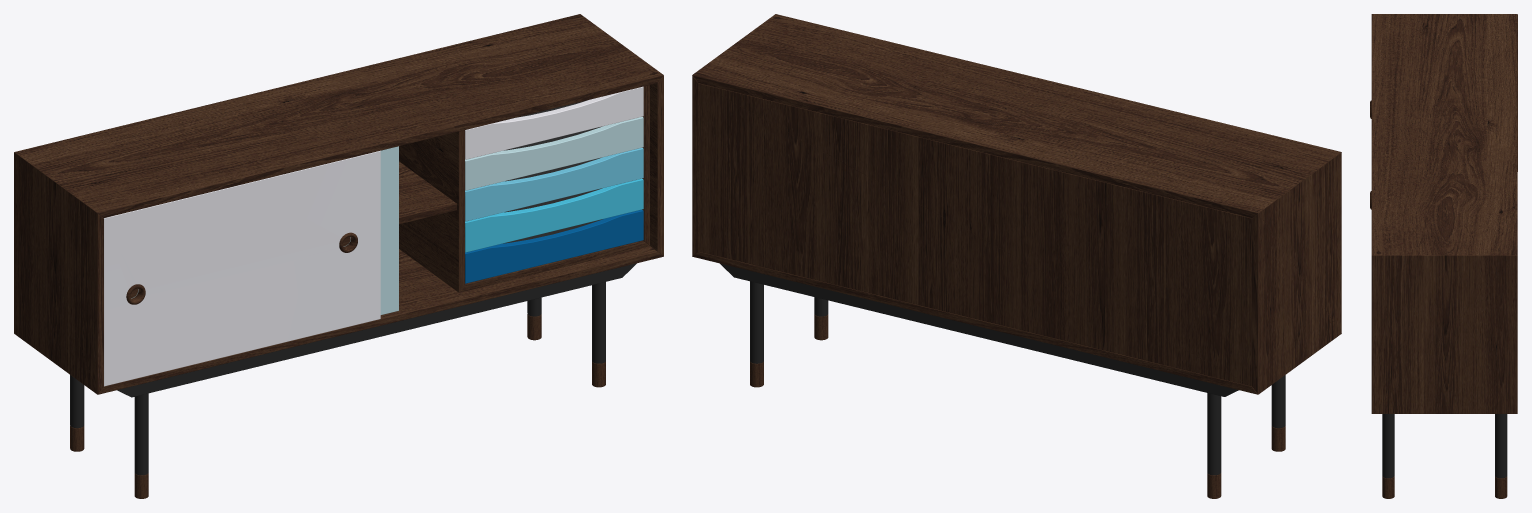
Rendered from cabinet.glb.
3 views of the same model, side by side, from view 1: azimuth 30°, elevation 25°; view 2: azimuth 150°, elevation 25°; view 3: azimuth 270°, elevation 25° (orthographic). The views are drawn at different scales.
Visible parts, largest first — view 1: Cylinder2693.001, Box12521, Cylinder2690, Box12622, Line1789566946, Line1789566945, Line1789566944, Plane.001; view 2: Cylinder2693.001, Cylinder2690; view 3: Cylinder2693.001, Cylinder2690.
Part boxes in pixels (x1=…): Cylinder2693.001: x1=14, y1=14, x2=663, y2=498; Box12521: x1=104, y1=86, x2=643, y2=386; Cylinder2690: x1=70, y1=263, x2=636, y2=475; Box12622: x1=131, y1=117, x2=643, y2=314; Line1789566946: x1=465, y1=209, x2=643, y2=283; Line1789566945: x1=465, y1=178, x2=643, y2=252; Line1789566944: x1=465, y1=148, x2=643, y2=221; Plane.001: x1=503, y1=100, x2=602, y2=243; Cylinder2693.001: x1=692, y1=14, x2=1341, y2=498; Cylinder2690: x1=720, y1=263, x2=1285, y2=475; Cylinder2693.001: x1=1370, y1=14, x2=1517, y2=498; Cylinder2690: x1=1382, y1=414, x2=1507, y2=478.
Size of the model in its own units: 1.76 by 0.9 by 0.4549.
Materials: 8 (1 with a texture image).
